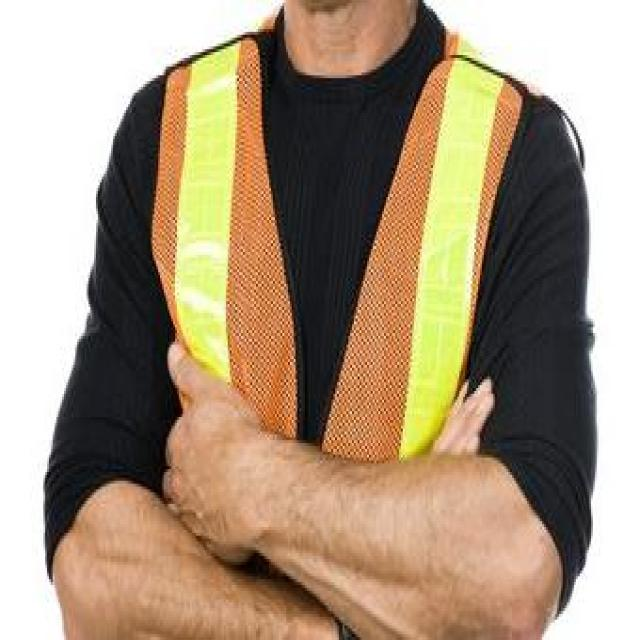Reflective-Jacket: (126, 18, 555, 634)
